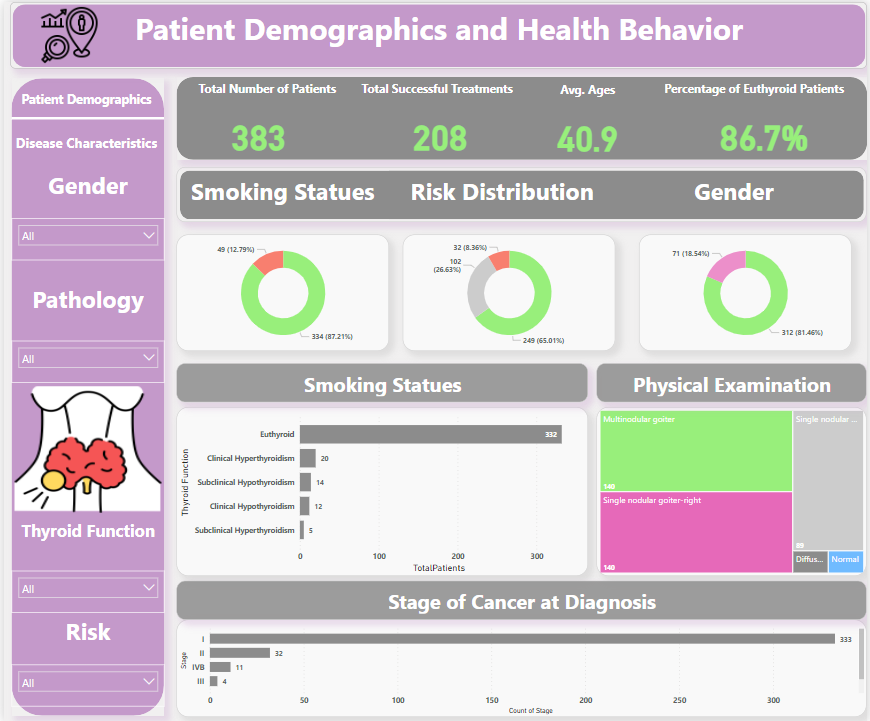

The page's visual inventory and layout, read from the dashboard file:
{"tool":"powerbi","page":{"name":"Patient Demographics and Health Behavior","canvas":[1380,1153],"ordinal":0},"visuals":[{"type":"shape","box":[11.6,122.8,244,1020],"z":0},{"type":"shape","box":[10,0,1370,106],"z":1000},{"type":"shape","box":[275,119.6,1105,132.5],"z":2000},{"type":"slicer","fields":{"Values":["Thyroid_Disease.Gender"]},"box":[11.9,346.7,245,67.5],"z":3000},{"type":"slicer","fields":{"Values":["Thyroid_Disease.Types of Thyroid Cancer (Pathology)"]},"box":[11.9,541.7,245,67.5],"z":4000},{"type":"slicer","fields":{"Values":["Thyroid_Disease.Thyroid Function"]},"box":[11.9,909.2,245,67.5],"z":5000},{"type":"slicer","fields":{"Values":["Thyroid_Disease.Risk"]},"box":[11.9,1059.2,245,67.5],"z":6000},{"type":"textbox","box":[11.9,261.7,245,65],"z":7000},{"type":"textbox","box":[11.9,444.2,245,65],"z":8000},{"type":"textbox","box":[11.9,821.7,245,65],"z":9000},{"type":"textbox","box":[11.9,976.7,245,65],"z":10000},{"type":"image","box":[11.9,609.2,245,212.5],"z":11000},{"type":"card","fields":{"Values":["Dax Measures.SuccessfulTreatments"]},"box":[589,167.4,219.2,84.6],"z":12000},{"type":"textbox","box":[562.1,119.3,261.5,48.1],"z":13000},{"type":"card","fields":{"Values":["Avg(Thyroid_Disease.Age)"]},"box":[823.7,169.6,219.2,84.6],"z":14000},{"type":"textbox","box":[823.7,121.5,219.2,48.1],"z":15000},{"type":"card","fields":{"Values":["Dax Measures.PercentageEuthyroid"]},"box":[1090,168.5,252.2,84.4],"z":16000},{"type":"textbox","box":[1044,119.6,312,48],"z":17000},{"type":"card","fields":{"Values":["Dax Measures.TotalPatients"]},"box":[298,168.6,219.2,84.6],"z":18000},{"type":"textbox","box":[298,119.6,246,48],"z":19000},{"type":"donutChart","fields":{"Category":["Thyroid_Disease.Smoking"],"Y":["Dax Measures.TotalPatients"]},"box":[276,371.2,340,186],"z":20000},{"type":"donutChart","fields":{"Category":["Thyroid_Disease.Risk"],"Y":["Dax Measures.TotalPatients"]},"box":[638,371.2,340,186],"z":21000},{"type":"donutChart","fields":{"Category":["Thyroid_Disease.Gender"],"Y":["Dax Measures.TotalPatients"]},"box":[1016,371.2,340,186],"z":22000},{"type":"shape","box":[276,264.8,1104,88],"z":23000},{"type":"textbox","box":[276,271.2,340,82],"z":24000},{"type":"textbox","box":[616,271.2,362,82],"z":25000},{"type":"textbox","box":[980,271.2,376,82],"z":26000},{"type":"textbox","box":[12,4,1368,88],"z":27000},{"type":"image","box":[0,0,210,106],"z":28000},{"type":"clusteredBarChart","fields":{"Category":["Thyroid_Disease.Thyroid Function"],"Y":["Dax Measures.TotalPatients"]},"box":[276,648,658,270],"z":29000},{"type":"textbox","box":[276,577.6,658,62],"z":30000},{"type":"treemap","fields":{"Group":["Thyroid_Disease.Physical Examination"],"Values":["Dax Measures.TotalPatients"]},"box":[948,648,432,270],"z":31000},{"type":"textbox","box":[948,577.6,432,62],"z":32000},{"type":"clusteredBarChart","fields":{"Category":["Thyroid_Disease.Stage"],"Y":["CountNonNull(Thyroid_Disease.Stage)"]},"box":[276,988,1104,156],"z":33000},{"type":"textbox","box":[276,926,1104,62],"z":34000},{"type":"bookmarkNavigator","box":[0,122,264,136],"z":37000},{"type":"shape","box":[12,120,244,132],"z":38000}]}

Visuals, with their boxes in screenshot pixels (x1, y1, x2, y2), scaled from the page's 1380x1153 canvas onto the 870x721 screenshot:
shape: 7/77/161/715
shape: 6/0/869/66
shape: 173/75/869/158
slicer - Thyroid_Disease.Gender: 8/217/162/259
slicer - Thyroid_Disease.Types of Thyroid Cancer (Pathology): 8/339/162/381
slicer - Thyroid_Disease.Thyroid Function: 8/569/162/611
slicer - Thyroid_Disease.Risk: 8/662/162/705
textbox: 8/164/162/204
textbox: 8/278/162/318
textbox: 8/514/162/554
textbox: 8/611/162/651
image: 8/381/162/514
card - Dax Measures.SuccessfulTreatments: 371/105/510/158
textbox: 354/75/519/105
card - Avg(Thyroid_Disease.Age): 519/106/657/159
textbox: 519/76/657/106
card - Dax Measures.PercentageEuthyroid: 687/105/846/158
textbox: 658/75/855/105
card - Dax Measures.TotalPatients: 188/105/326/158
textbox: 188/75/343/105
donutChart - Thyroid_Disease.Smoking x Dax Measures.TotalPatients: 174/232/388/348
donutChart - Thyroid_Disease.Risk x Dax Measures.TotalPatients: 402/232/617/348
donutChart - Thyroid_Disease.Gender x Dax Measures.TotalPatients: 641/232/855/348
shape: 174/166/869/221
textbox: 174/170/388/221
textbox: 388/170/617/221
textbox: 618/170/855/221
textbox: 8/3/869/58
image: 0/0/132/66
clusteredBarChart - Thyroid_Disease.Thyroid Function x Dax Measures.TotalPatients: 174/405/589/574
textbox: 174/361/589/400
treemap - Thyroid_Disease.Physical Examination x Dax Measures.TotalPatients: 598/405/869/574
textbox: 598/361/869/400
clusteredBarChart - Thyroid_Disease.Stage x CountNonNull(Thyroid_Disease.Stage): 174/618/869/715
textbox: 174/579/869/618
bookmarkNavigator: 0/76/166/161
shape: 8/75/161/158
